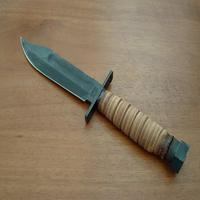knife: (14, 29, 192, 166)
